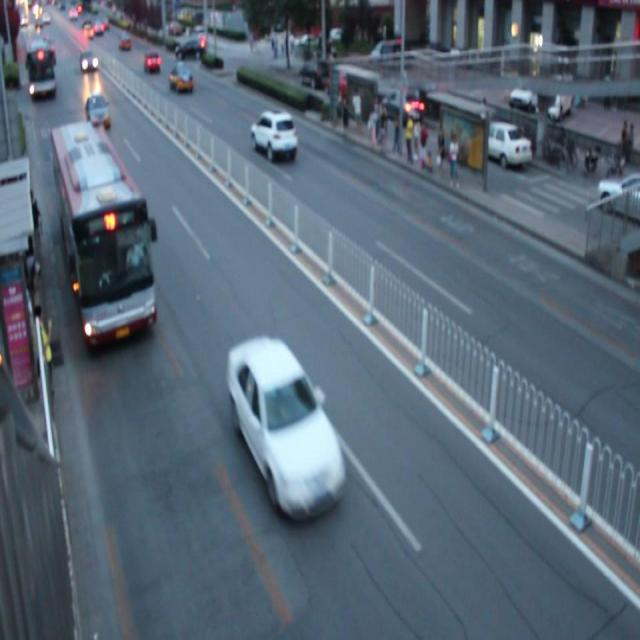car: (228, 336, 345, 517), (250, 108, 297, 162), (85, 94, 112, 132), (168, 64, 194, 94)
van: (50, 120, 156, 342)
